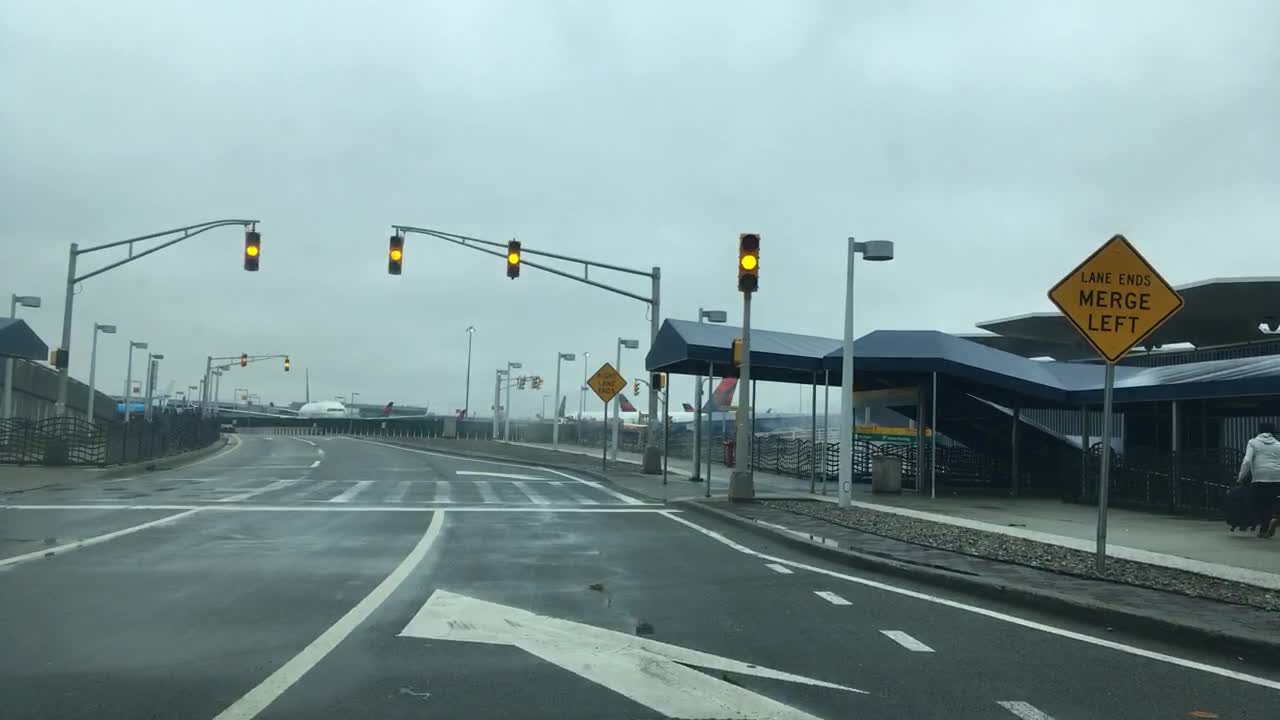person: (1238, 423, 1280, 538)
traffic light: (738, 231, 758, 293), (386, 233, 404, 276), (243, 228, 260, 270), (506, 239, 521, 279), (728, 337, 742, 366), (50, 347, 68, 366), (650, 373, 665, 388), (515, 374, 524, 390), (530, 376, 540, 390), (633, 377, 639, 397), (282, 357, 288, 371), (239, 353, 246, 365)
traffic sign: (1046, 233, 1181, 363), (584, 360, 627, 402)
